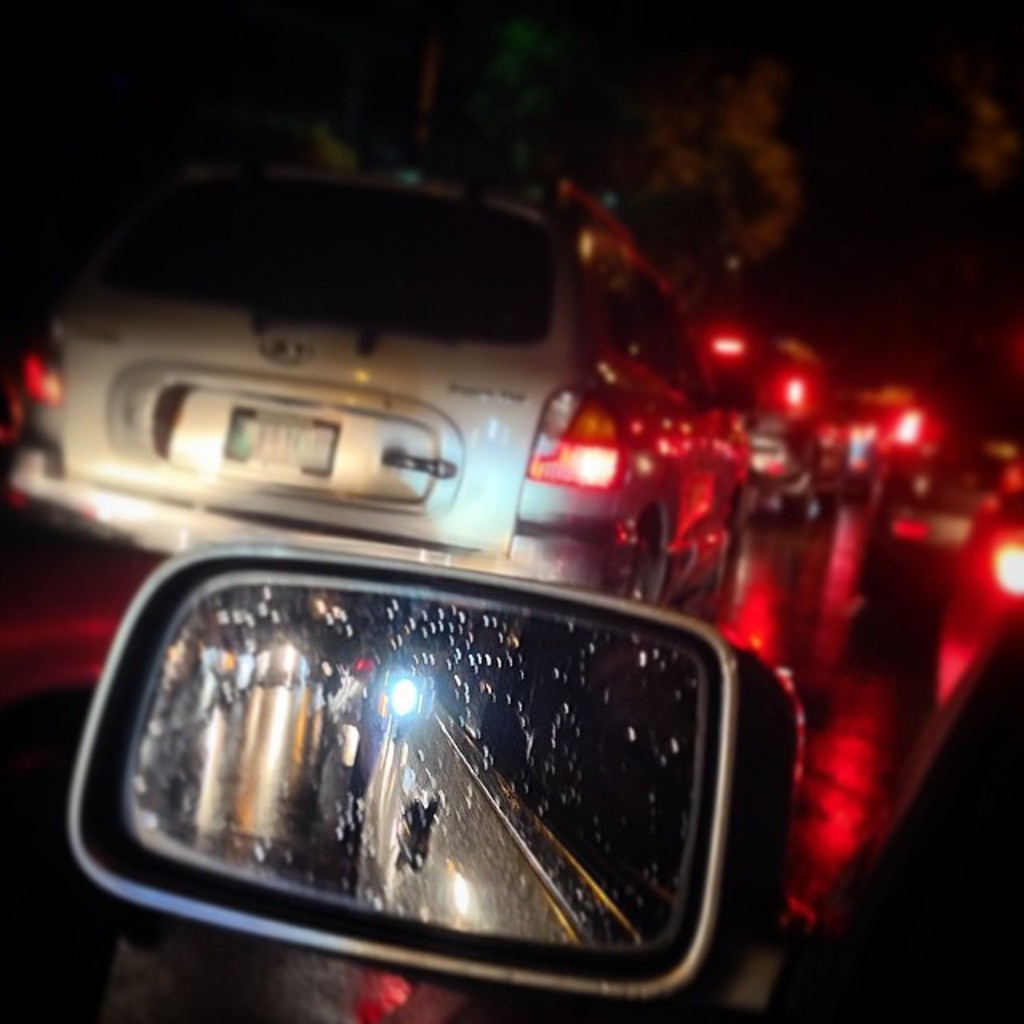Car: (0, 177, 1022, 1022)
